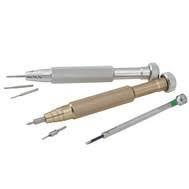screwdriver: (43, 69, 176, 123), (44, 70, 176, 123), (83, 92, 188, 146), (83, 92, 187, 145), (23, 59, 159, 82), (23, 60, 159, 81)
